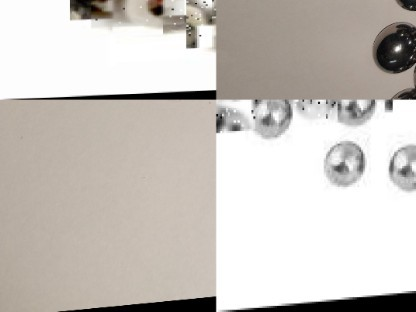ironball: (237, 99, 294, 149), (91, 0, 184, 29), (372, 141, 415, 203), (370, 21, 415, 75), (321, 99, 378, 136), (331, 141, 366, 188), (186, 0, 216, 50), (216, 99, 255, 132), (292, 99, 337, 126), (406, 173, 415, 229), (374, 99, 402, 105)
